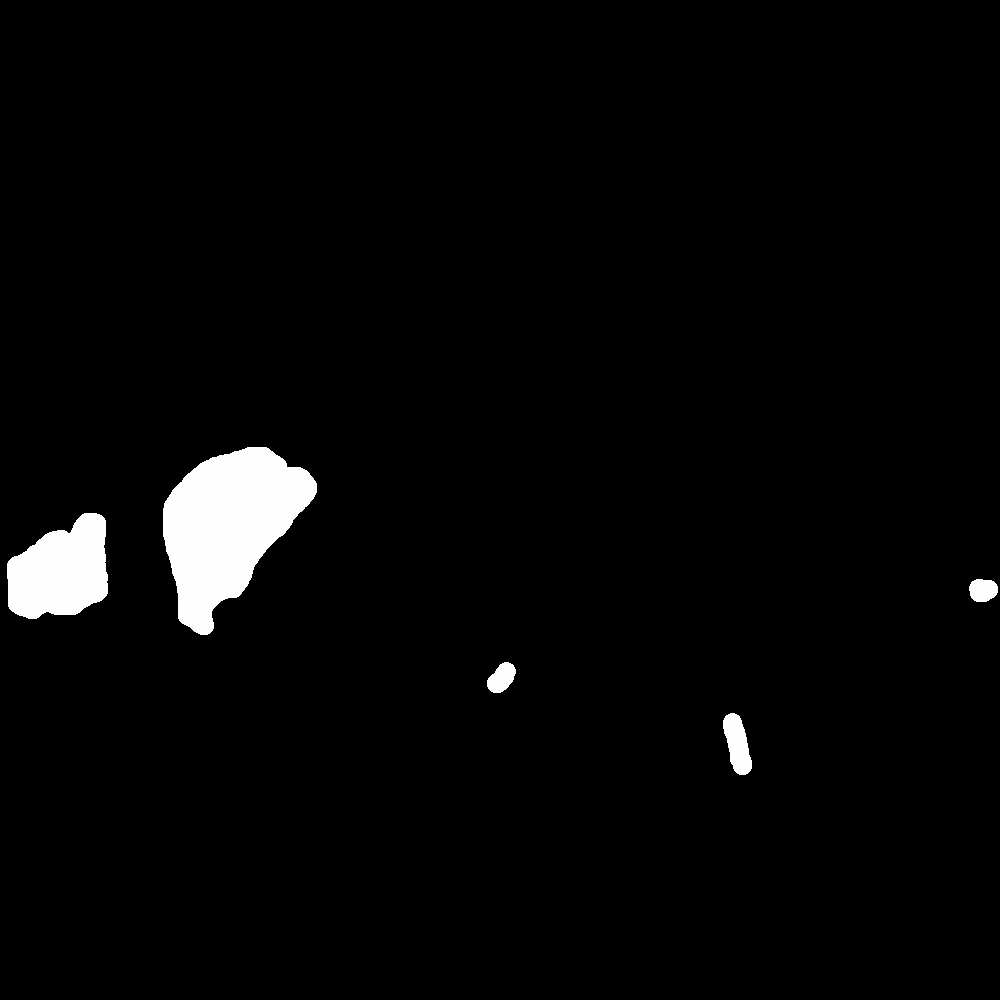illegal: (165, 446, 315, 632), (9, 512, 107, 619), (4, 800, 146, 866), (285, 656, 362, 769), (392, 691, 473, 793), (709, 628, 811, 701), (949, 576, 1000, 609)
